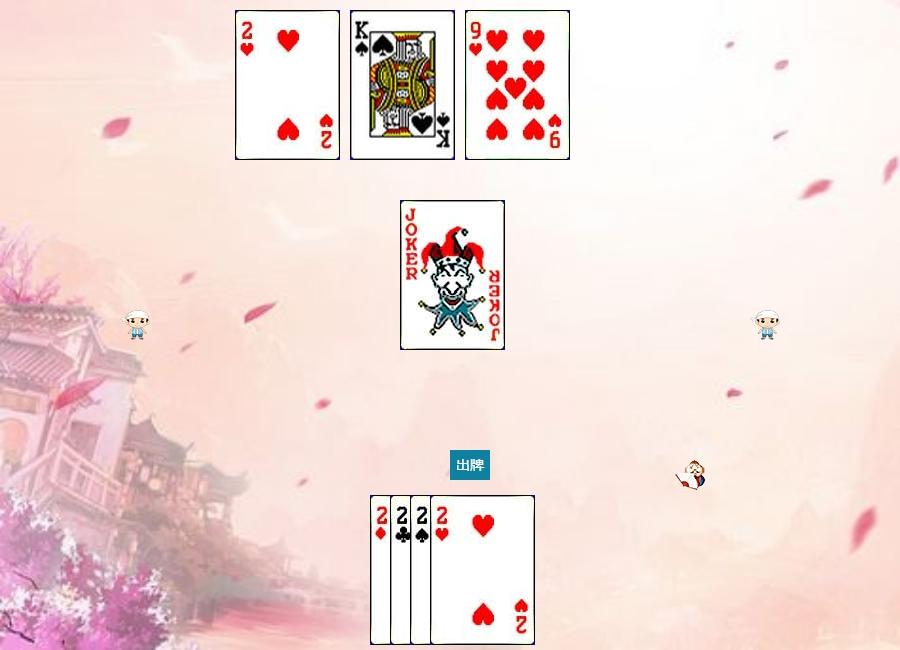13~4: (350, 10, 455, 160)
15~1: (370, 495, 475, 645)
15~2: (390, 495, 495, 645)
15~3: (235, 10, 340, 160), (430, 495, 535, 645)
15~4: (410, 495, 515, 645)
18~4: (400, 200, 505, 350)
9~3: (465, 10, 570, 160)
